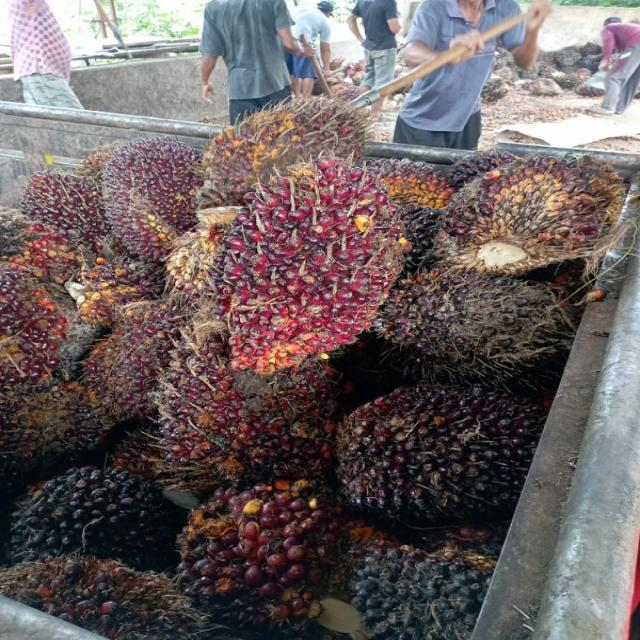fraksi 00: (309, 321, 557, 560), (365, 234, 574, 391), (0, 448, 197, 606)
fraksi 1: (170, 146, 446, 394), (153, 462, 358, 630), (412, 128, 634, 283), (75, 128, 243, 267)
